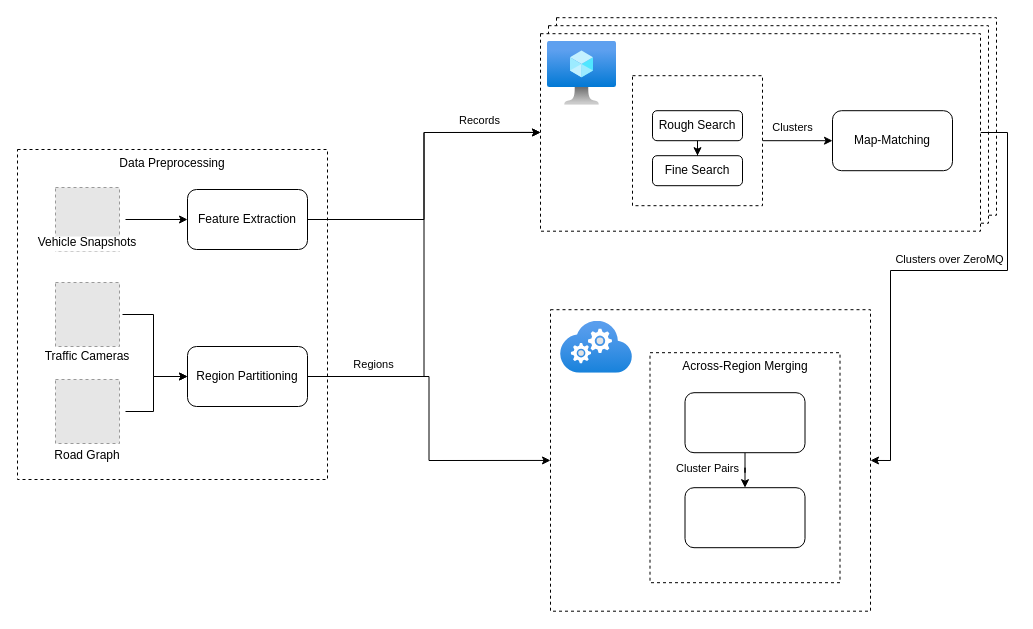
Some shapes in this 1033 by 629 pixel diagram are drawn without their labels. Grey dashed boxes stand in for pictures. Each missing label, with the box of its shape:
Across-Region Matching: (684, 392, 805, 453)
Multi-Modal Clustering: (632, 75, 762, 206)
Processing on Cloud Server: (550, 309, 870, 611)
Regional Processing on Edge Server: (540, 33, 980, 231)
Vehicle Record Cluster Merging: (684, 487, 805, 548)
